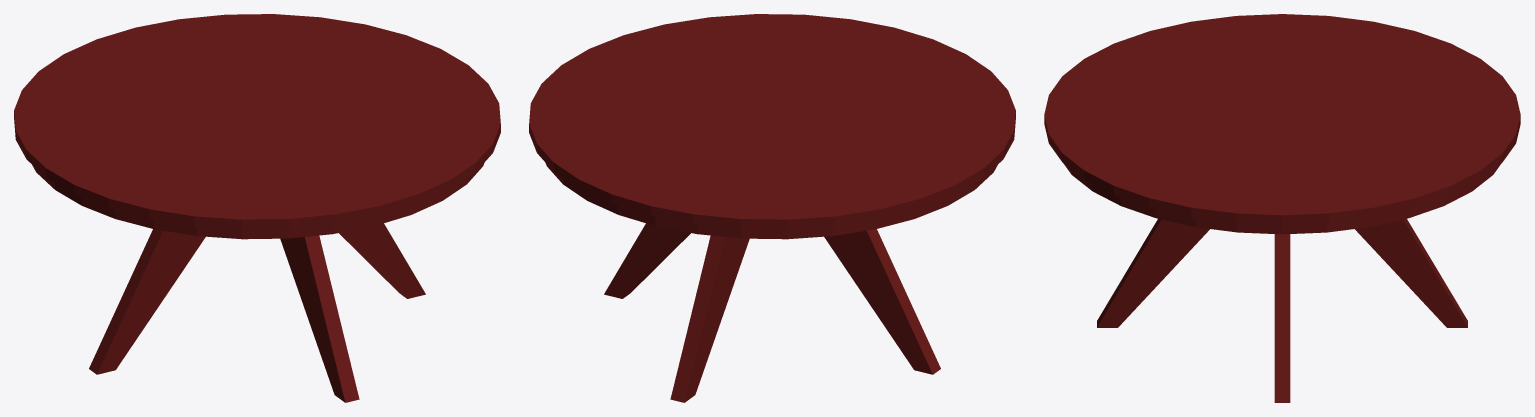
The model's file is round_table.glb.
The picture shows the model from 3 angles, left to right: view 1: azimuth 30°, elevation 25°; view 2: azimuth 150°, elevation 25°; view 3: azimuth 270°, elevation 25°; orthographic projection. The views are drawn at different scales.
Parts seen in each view (by area): view 1: top_0, legs_1; view 2: top_0, legs_1; view 3: top_0, legs_1.
Part boxes in pixels (box(x1,y1,x2,y2)): top_0: box(14, 14, 500, 239); legs_1: box(89, 223, 425, 402); top_0: box(529, 14, 1015, 239); legs_1: box(604, 223, 940, 402); top_0: box(1044, 14, 1520, 234); legs_1: box(1097, 218, 1467, 402).
Size of the model in its own units: 2 by 0.9722 by 2.
Materials: 1 (1 with a texture image).
